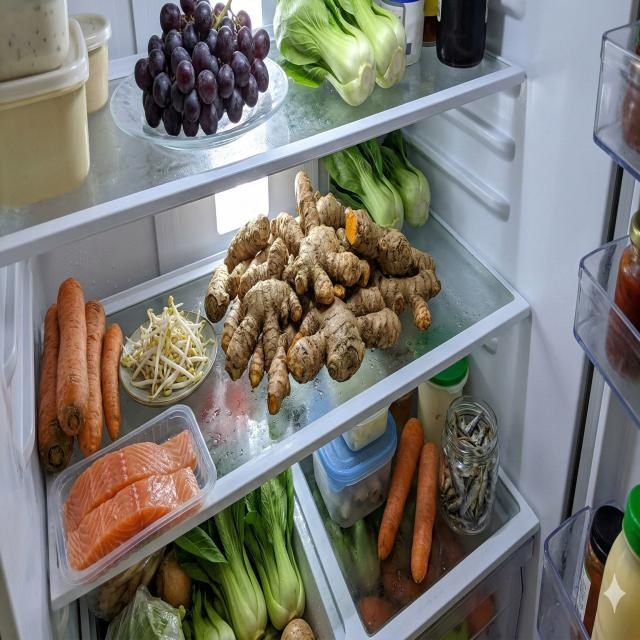anchovies: (441, 409, 497, 533)
bean_sprouts: (121, 295, 215, 402)
carrot: (37, 276, 124, 474), (378, 418, 440, 584)
fish: (62, 428, 202, 586)
grape: (134, 0, 270, 138)
pakchoy: (173, 466, 306, 640), (273, 0, 407, 106), (322, 128, 431, 232)
turmeric: (204, 171, 442, 416)
